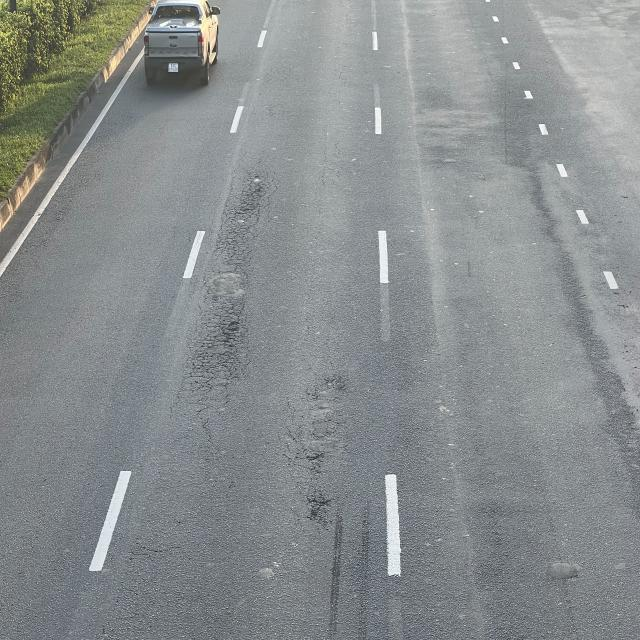car: (146, 0, 223, 84)
